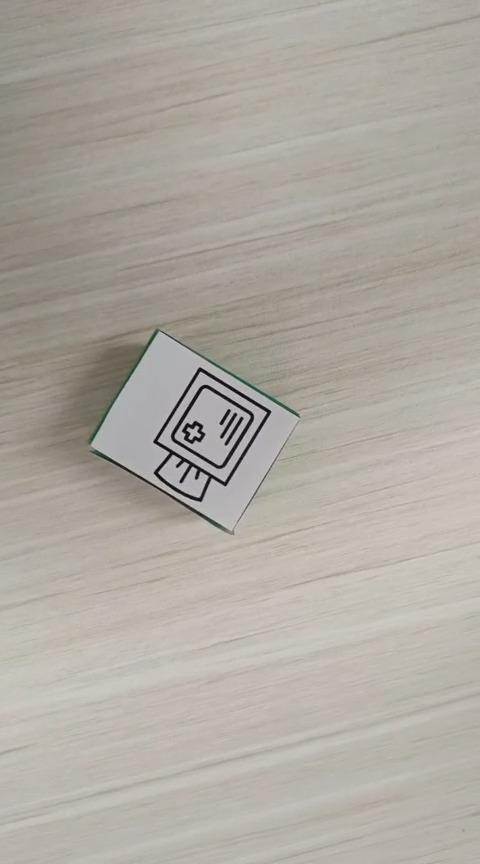Gauze: (87, 326, 301, 535)
